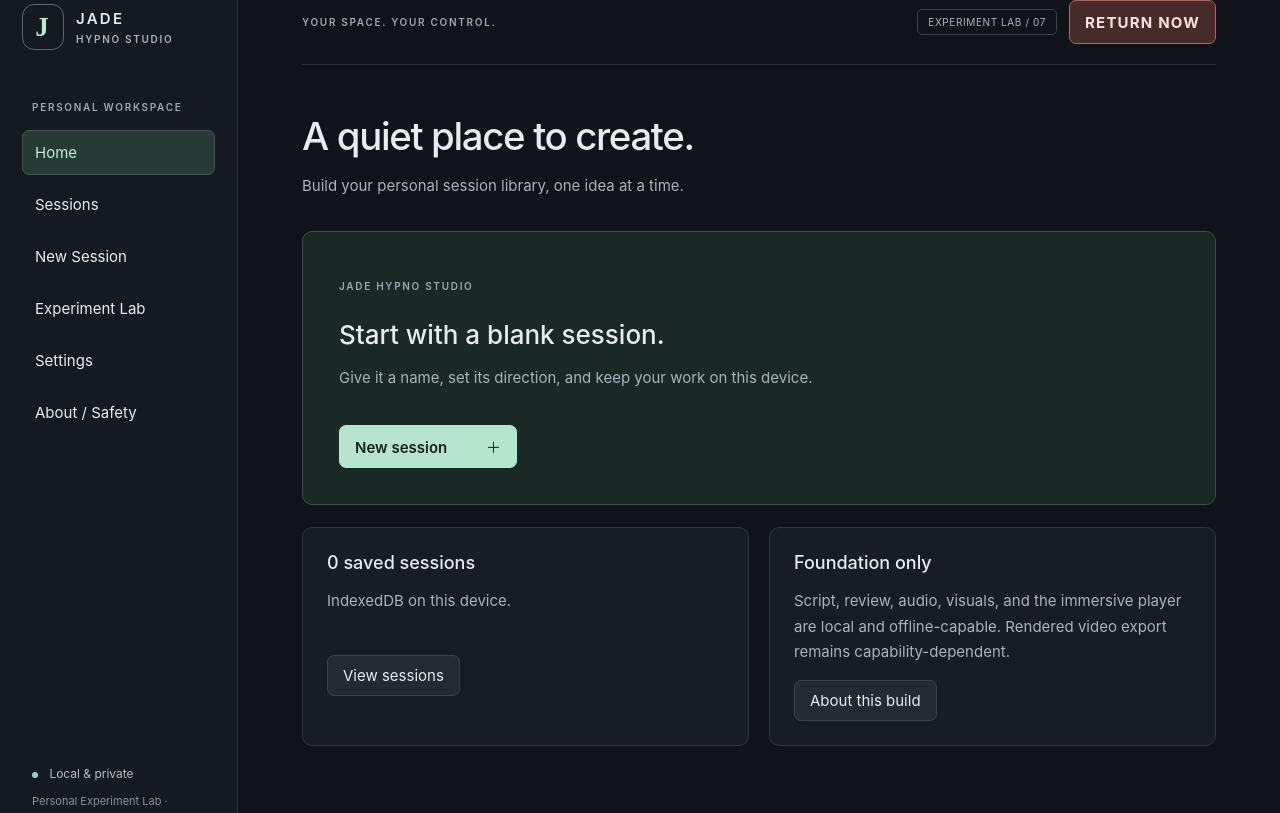
Test case: offers confirmed recovery from a save conflict without trapping the editor
The width and height of the screenshot is (1280, 813).
Check: the button "New session ＋" is enabled, box [339,425,517,468]
Click the button "Sessions" at (118, 204), box [22,182,215,227]
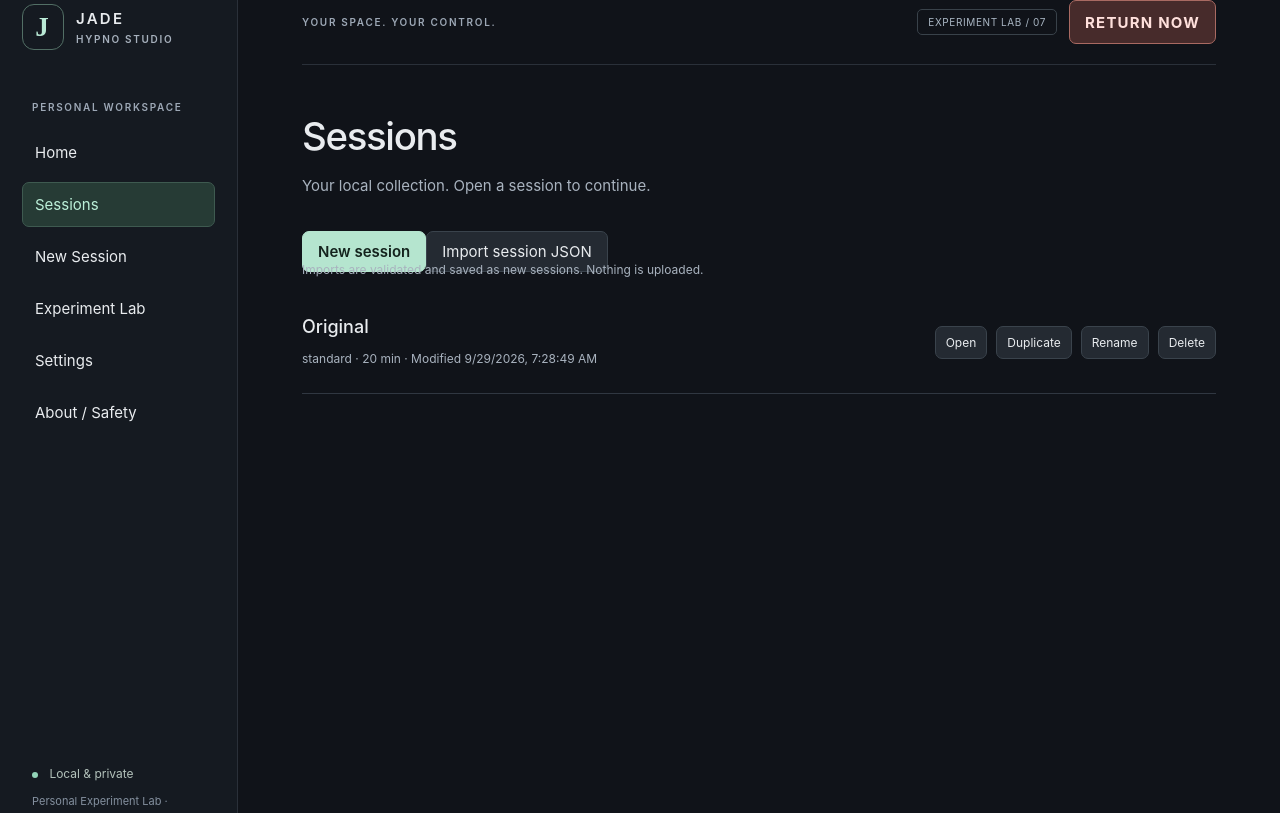
Click the button named "Open Original" at (961, 343), box [935,326,987,359]
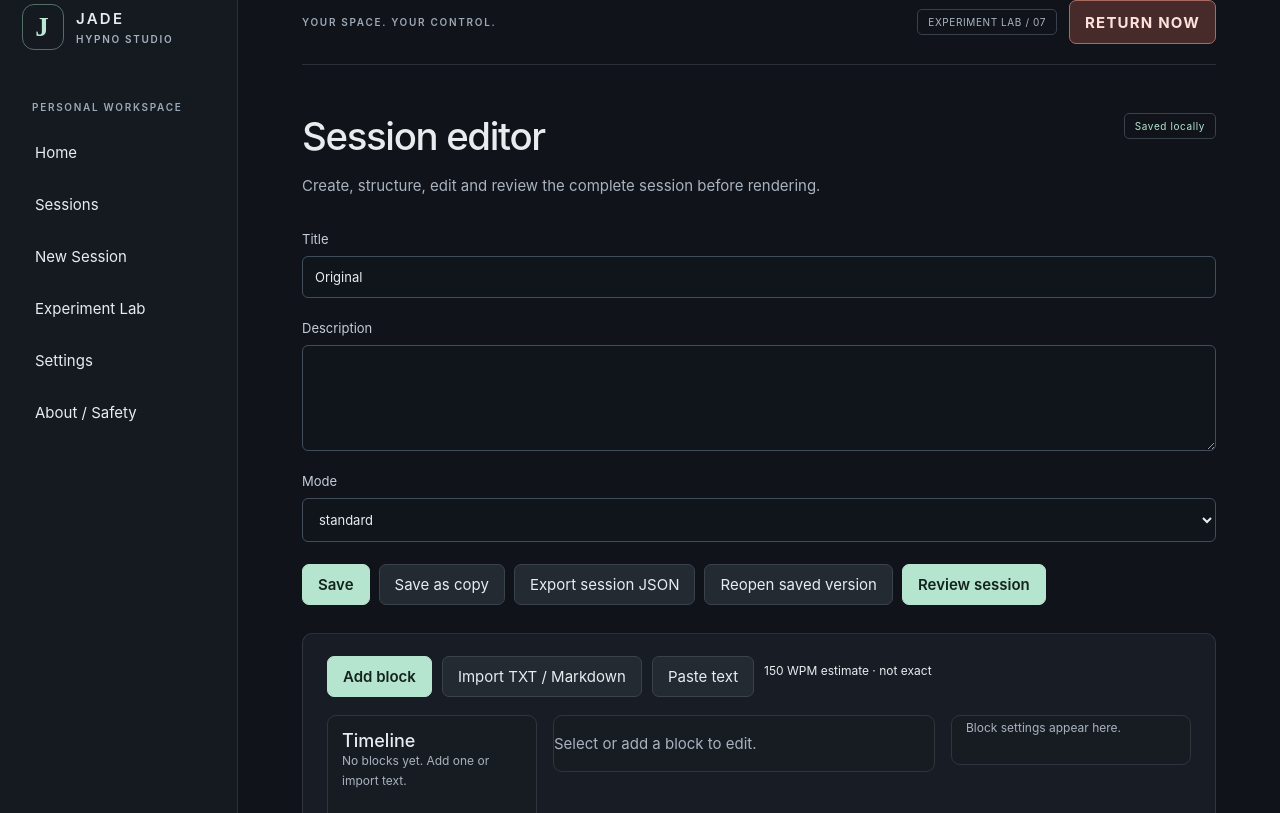
Type "My unsaved edits" into the text box labelled "Description" at (759, 398), box [302,344,1216,450]
Click the button "Save" at (336, 584), box [302,564,370,604]
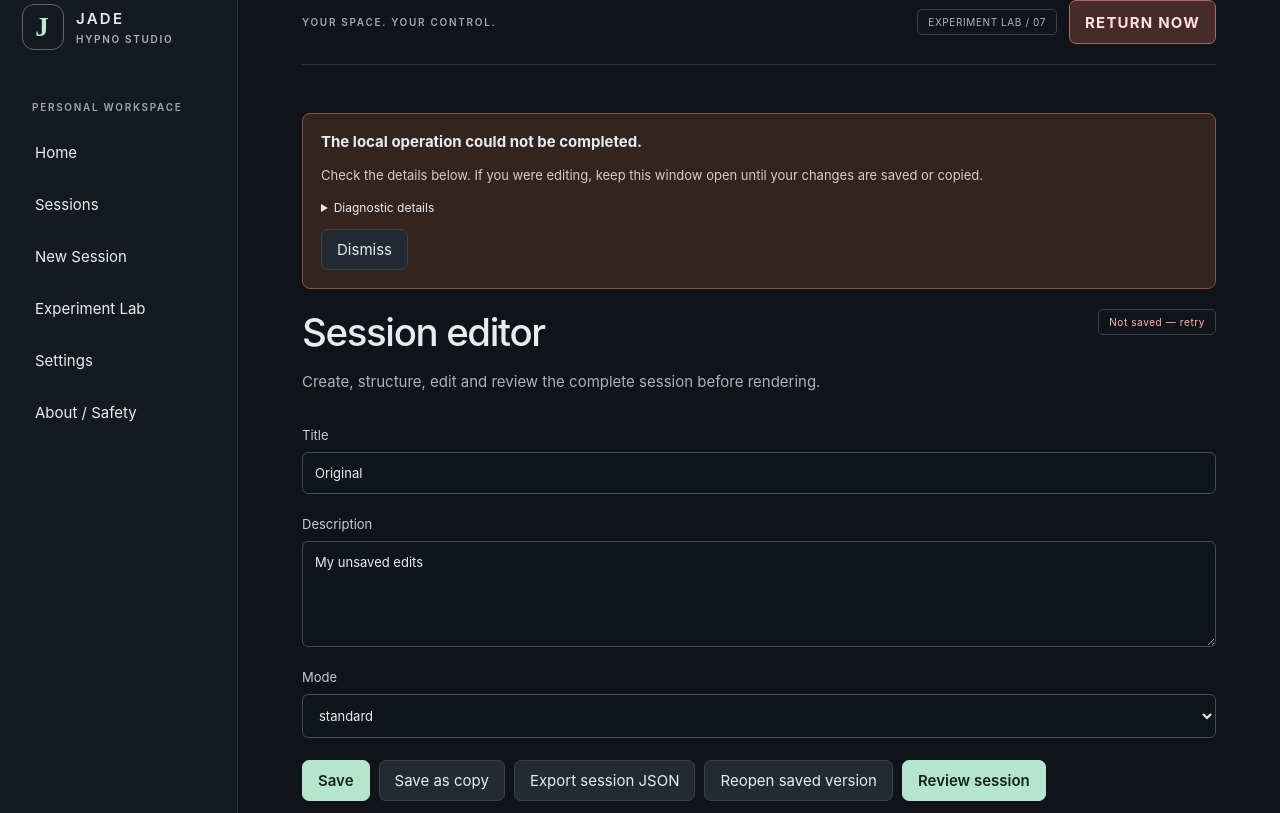
Check: the text "Not saved — retry" is shown, box [1098,309,1216,335]
Click the button "Save as copy" at (442, 780), box [378,760,505,801]
(page scrolled)
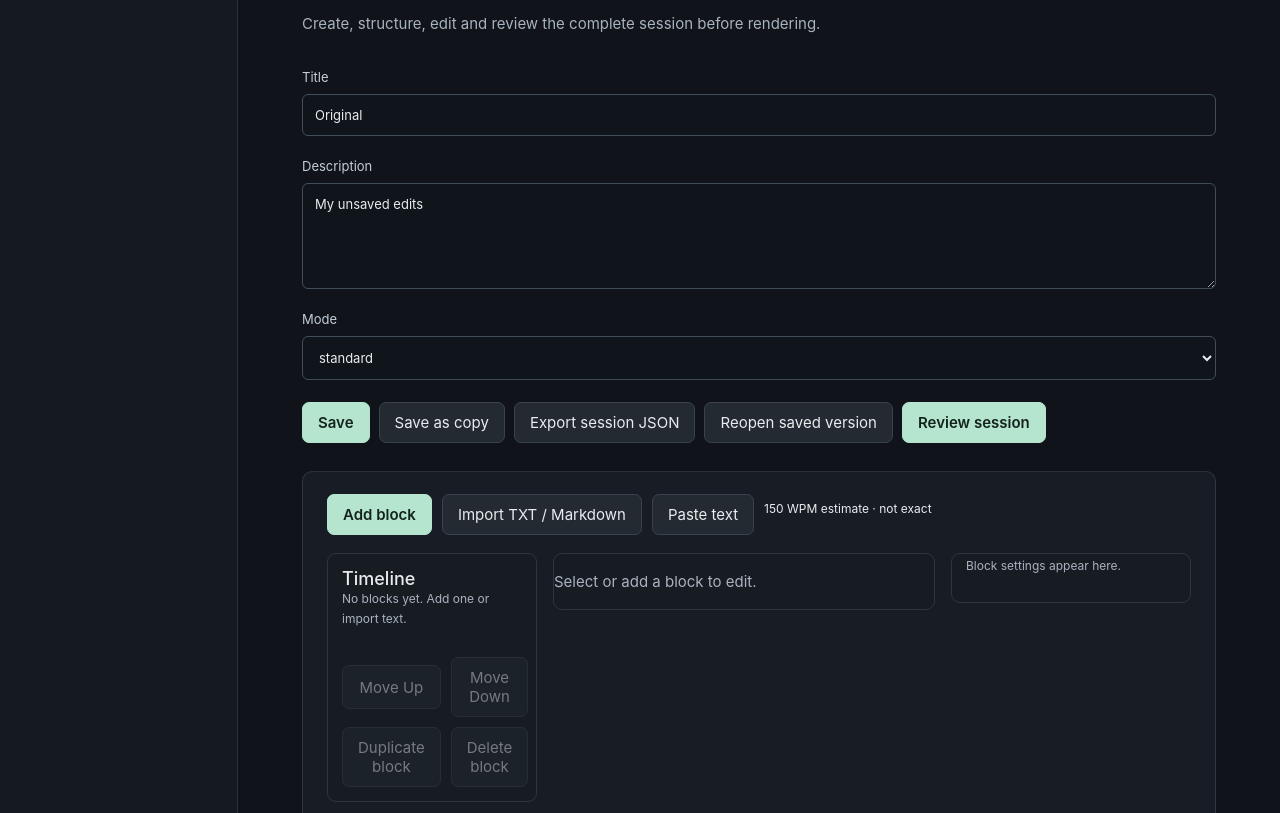
Click the button "Reopen saved version" at (799, 422), box [704,402,893,443]
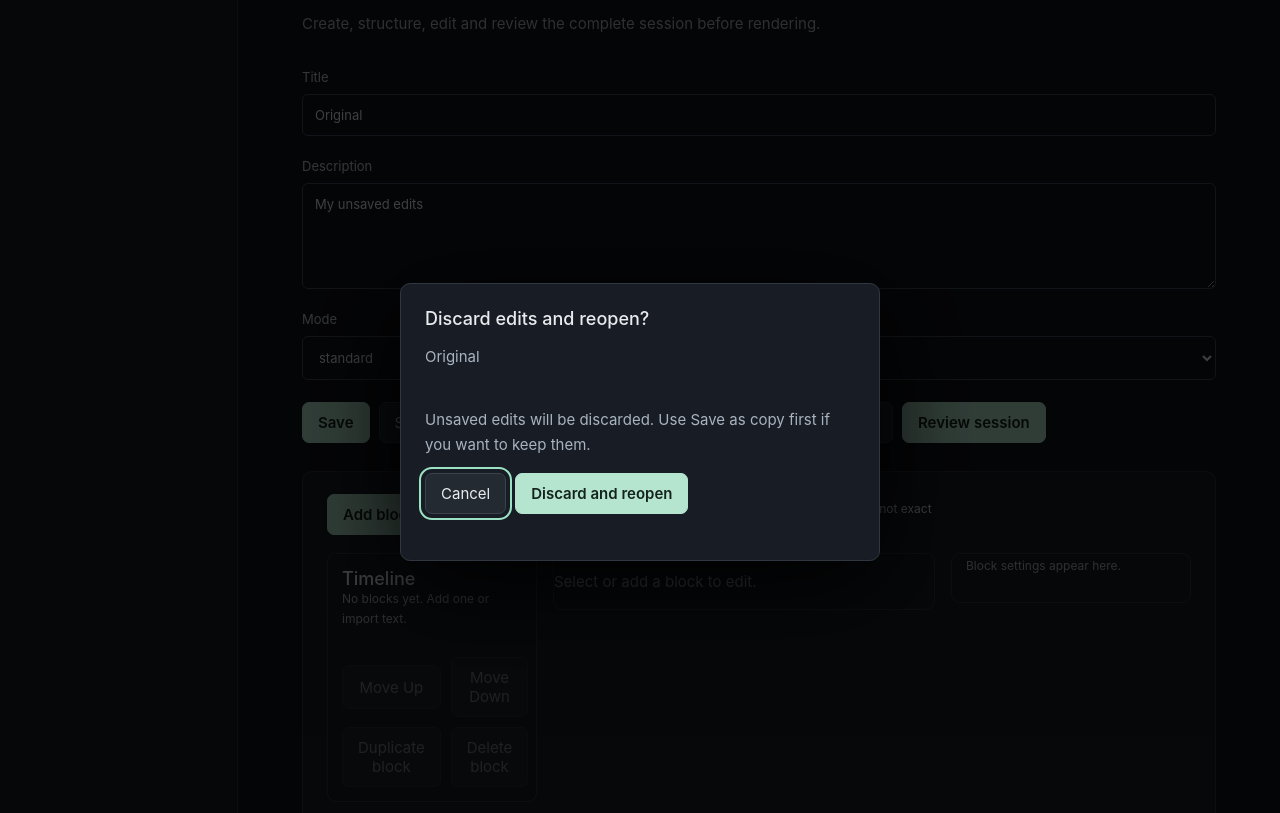
Click the button "Discard and reopen" at (602, 493), box [515,473,688,514]
(page scrolled)
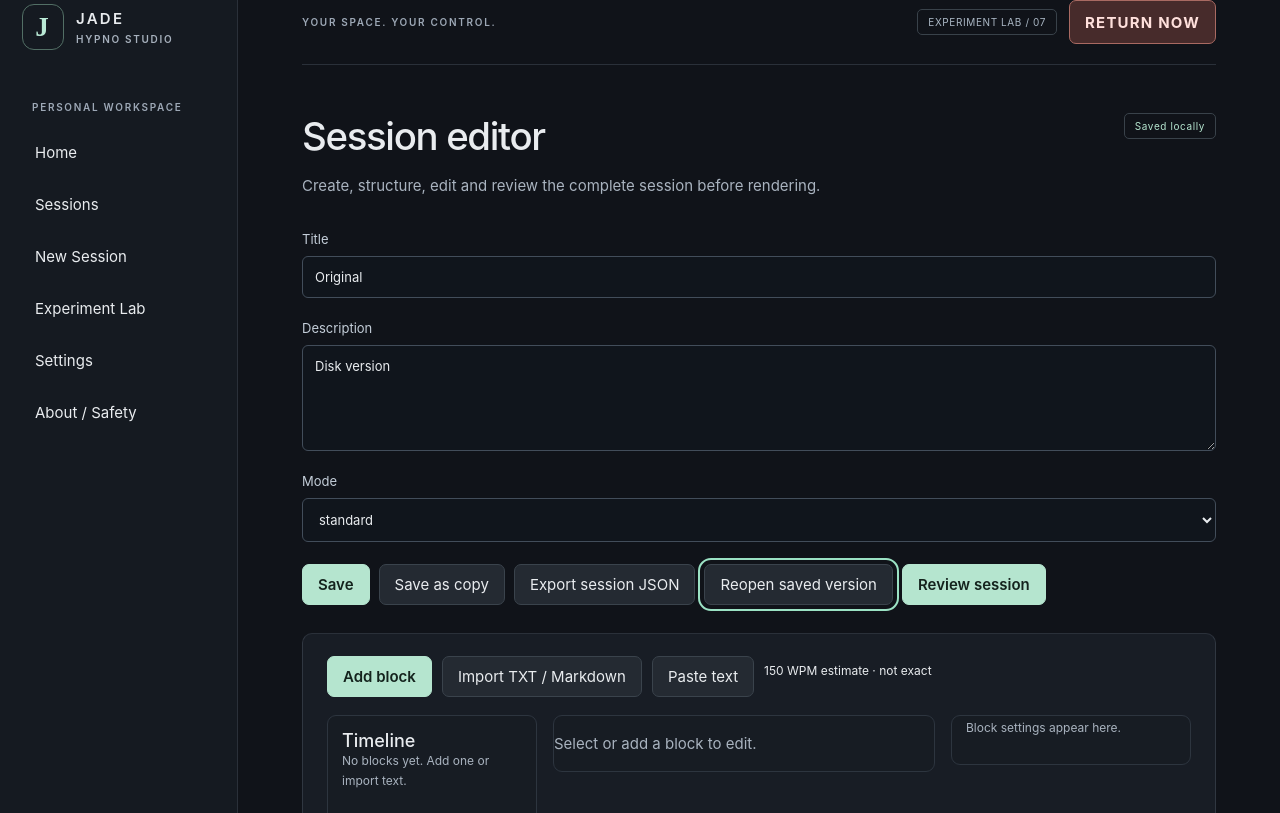
Check: the text box labelled "Description" holds "Disk version", box [302,344,1216,450]
